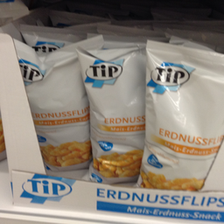chips: (144, 39, 224, 190), (12, 39, 99, 174), (76, 45, 143, 184)
